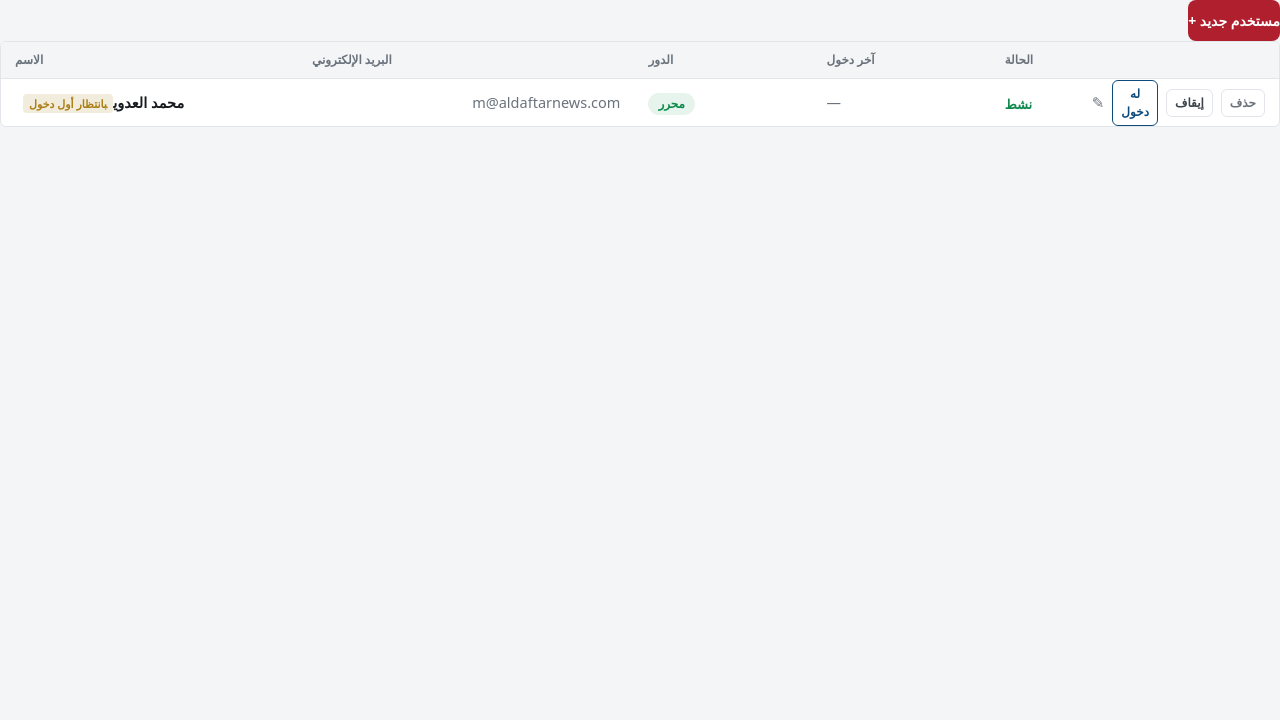
Test: UsersManager › blocks saving with an empty name or email
Click the button "+ مستخدم جديد" at {"x": 1234, "y": 20}, box [1188,0,1279,41]
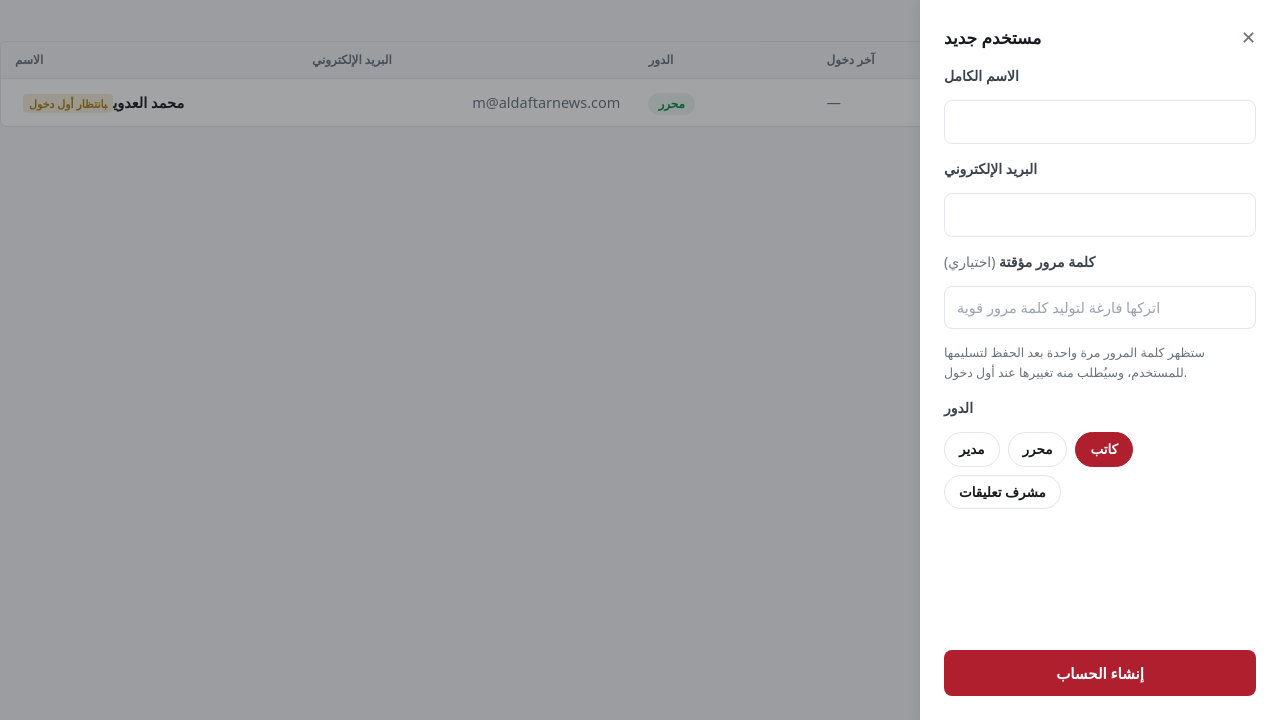
Click the button "إنشاء الحساب" at {"x": 1100, "y": 673}, box [944,650,1256,696]
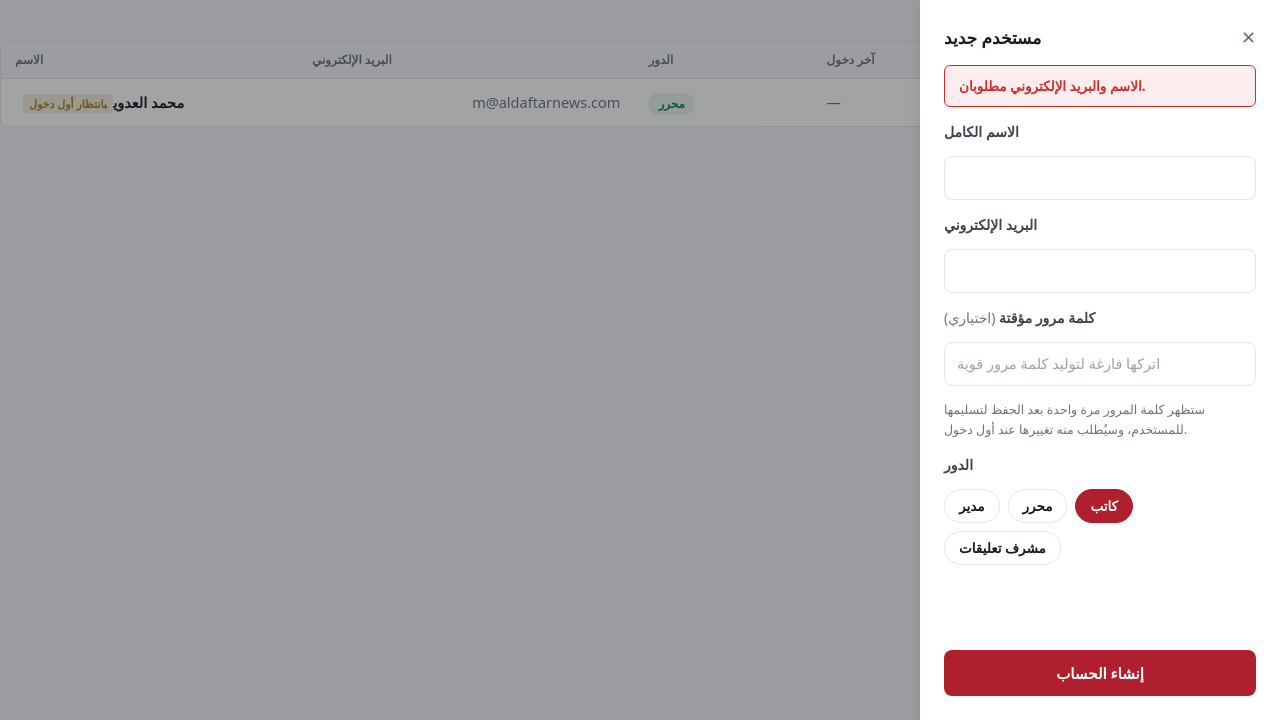
Check: the message shows "الاسم والبريد الإلكتروني مطلوبان", box [959,77,1146,95]
